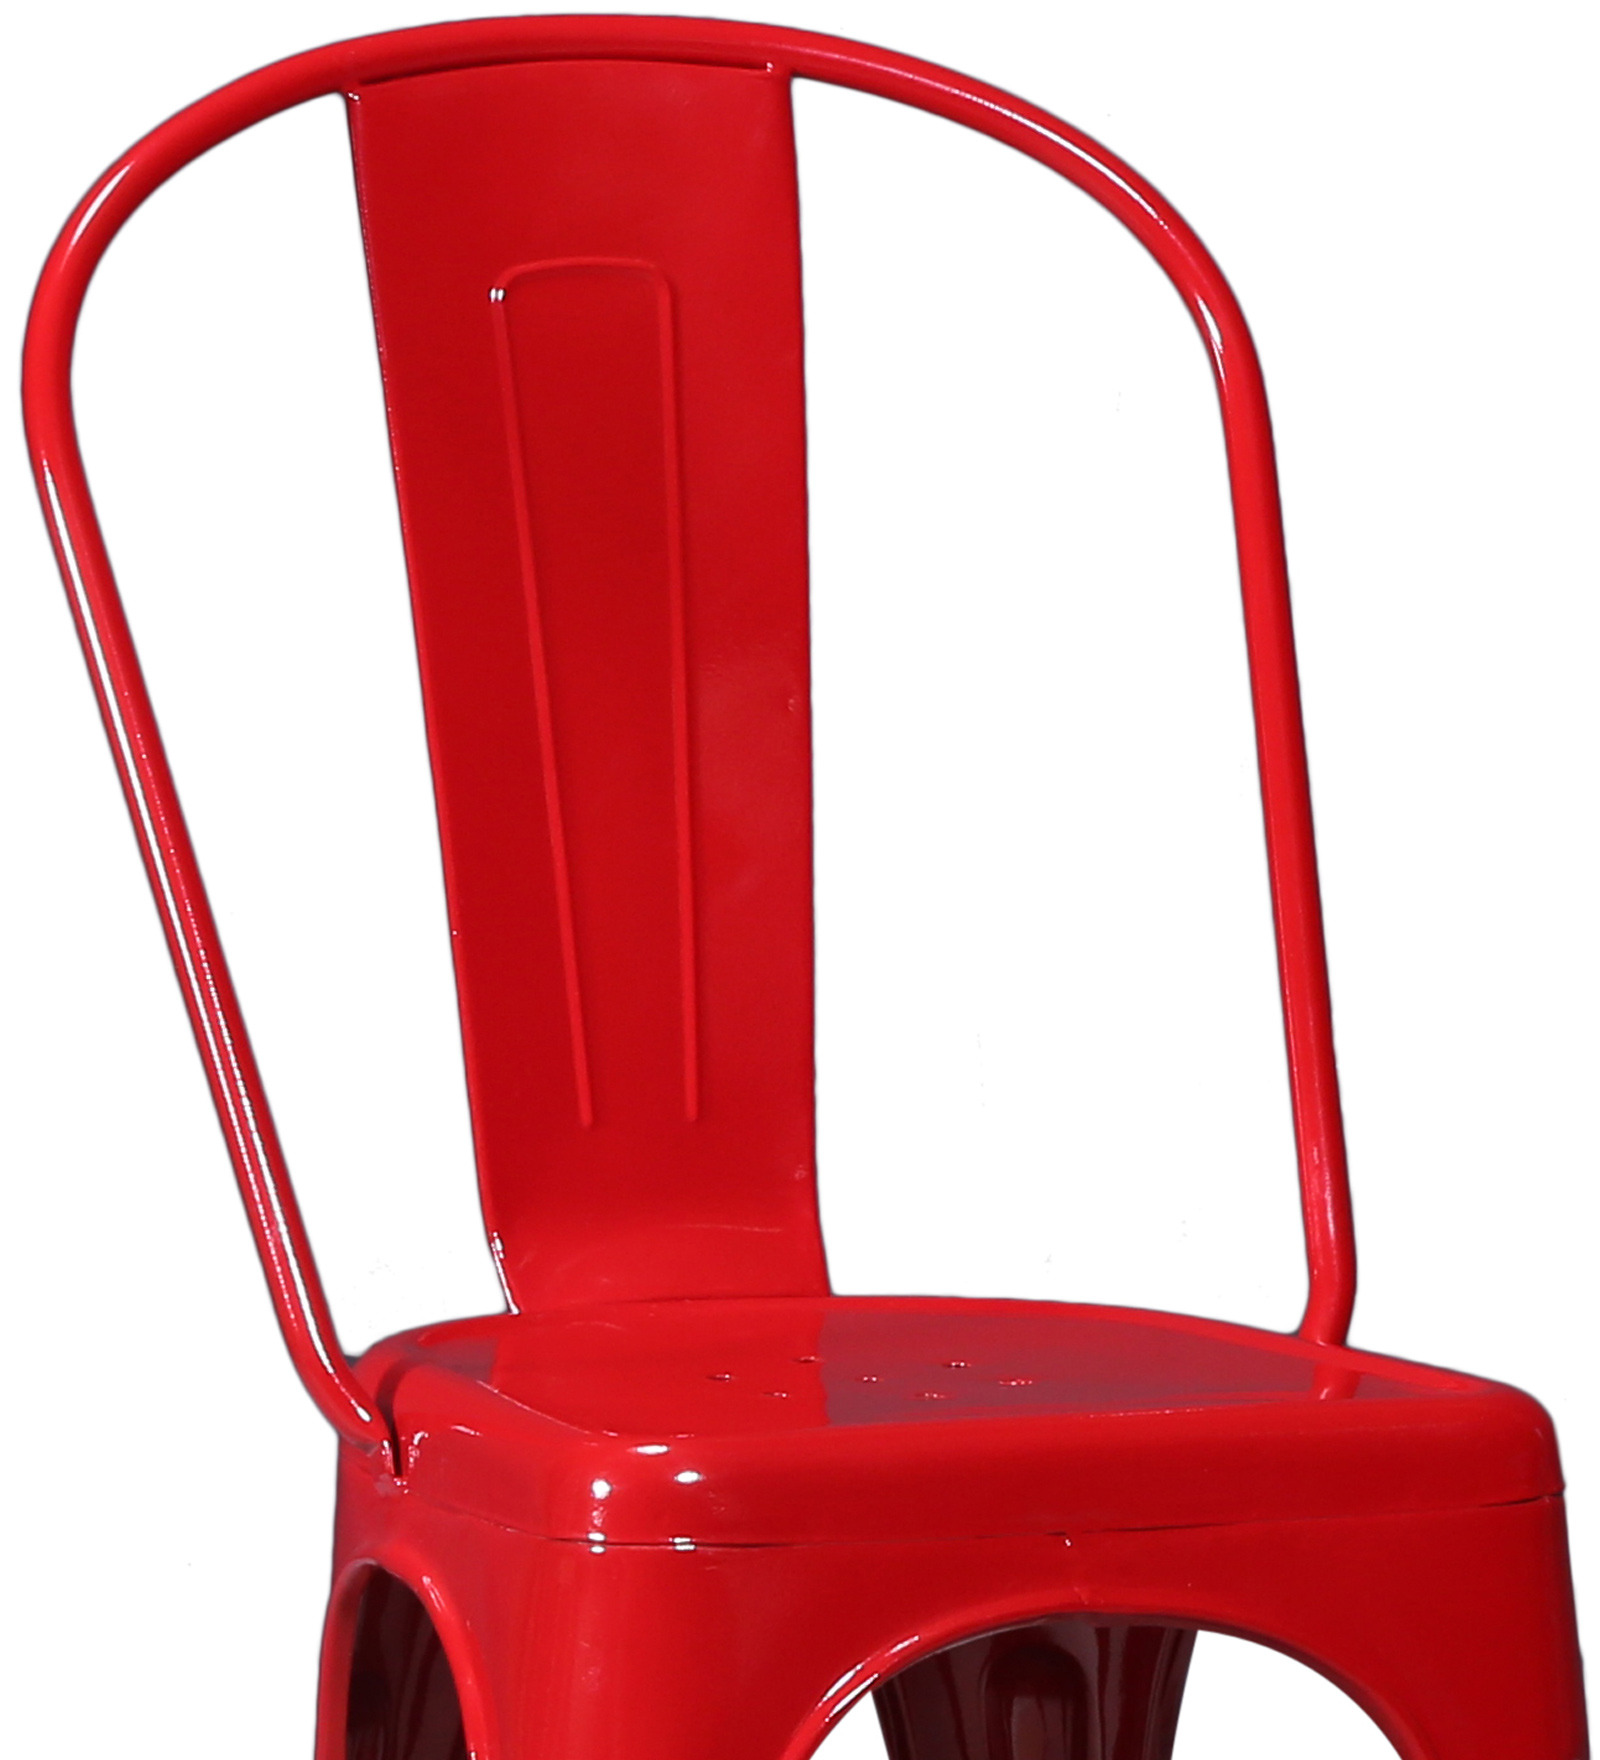Ekati Metal Chair in Red Color by Bohemiana: (5, 5, 1586, 1760)
